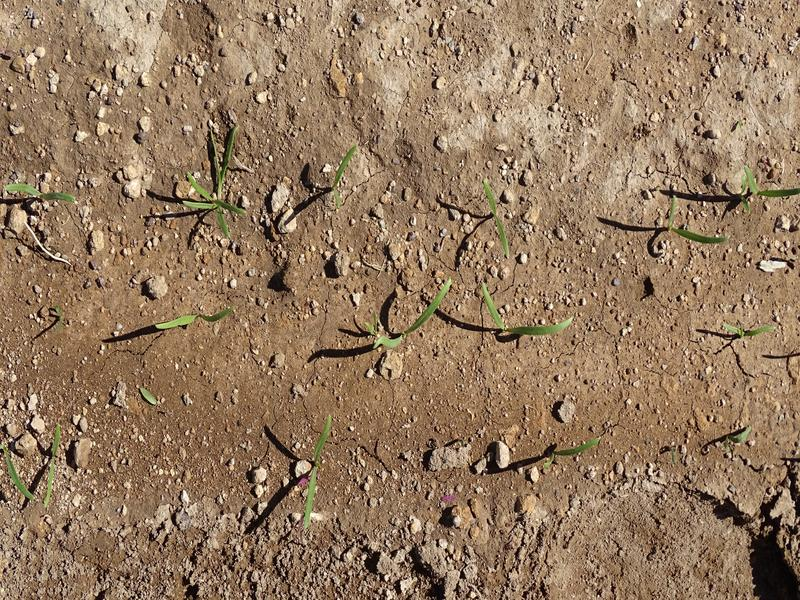Espinaca: (181, 126, 245, 237), (366, 280, 454, 351), (476, 281, 573, 344), (292, 420, 338, 530), (663, 196, 740, 248), (155, 296, 229, 334), (37, 418, 62, 508), (742, 163, 797, 203), (3, 179, 81, 206), (325, 141, 353, 214)
